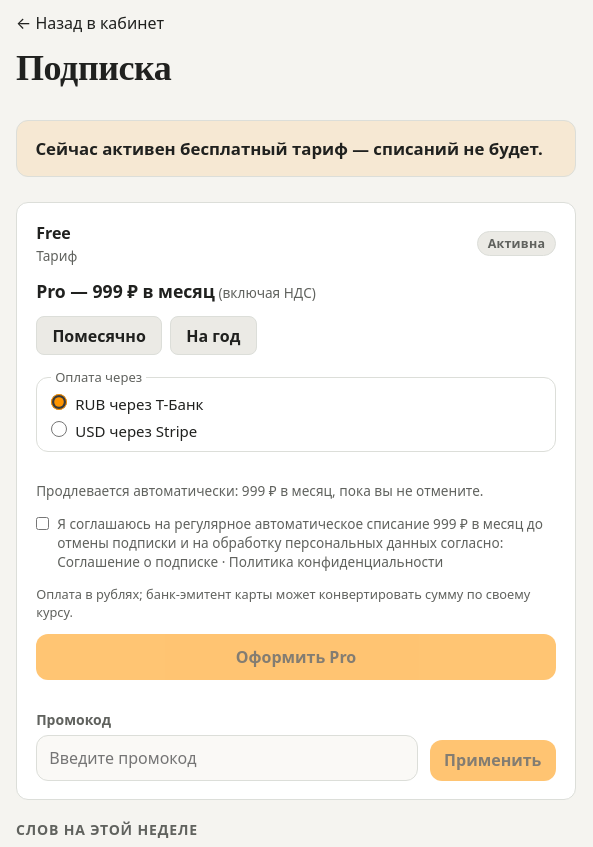
BillingDashboard › localizes promo code errors in Russian billing
Check: the heading "Подписка" is shown, box [16, 48, 171, 88]
Type "BAD-CODE" into the field with placeholder "Введите промокод" at (227, 758), box [36, 735, 418, 781]
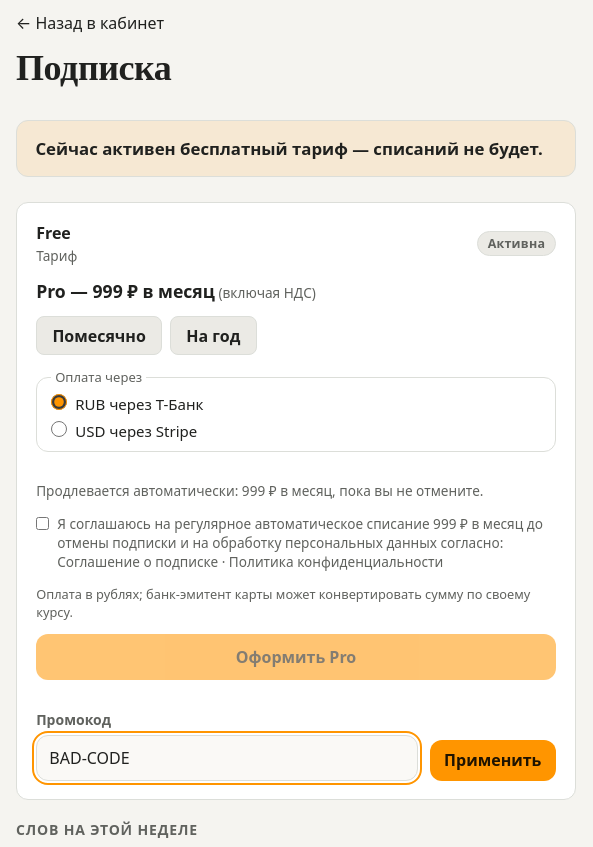
Click the button "Применить" at (493, 760), box [430, 740, 556, 781]
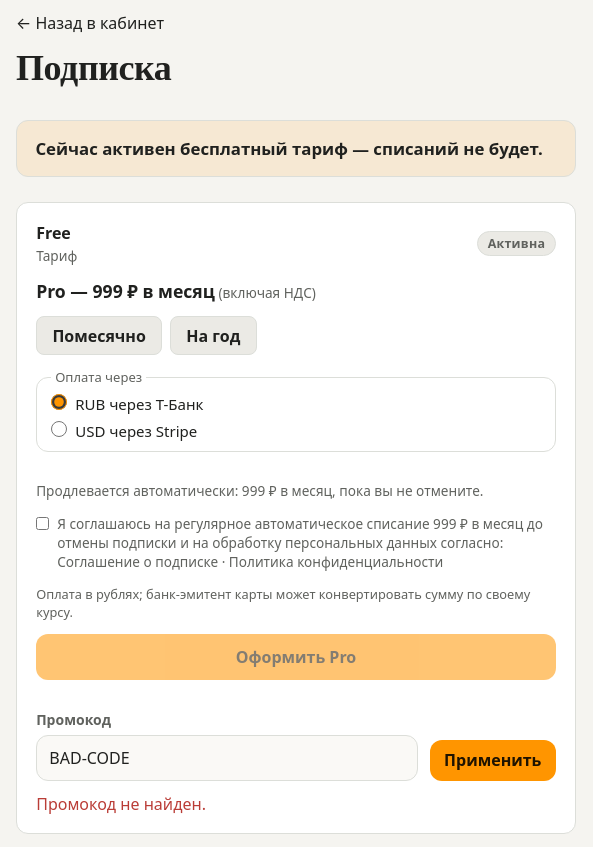
Check: the text "Промокод не найден." is shown, box [36, 793, 206, 815]
